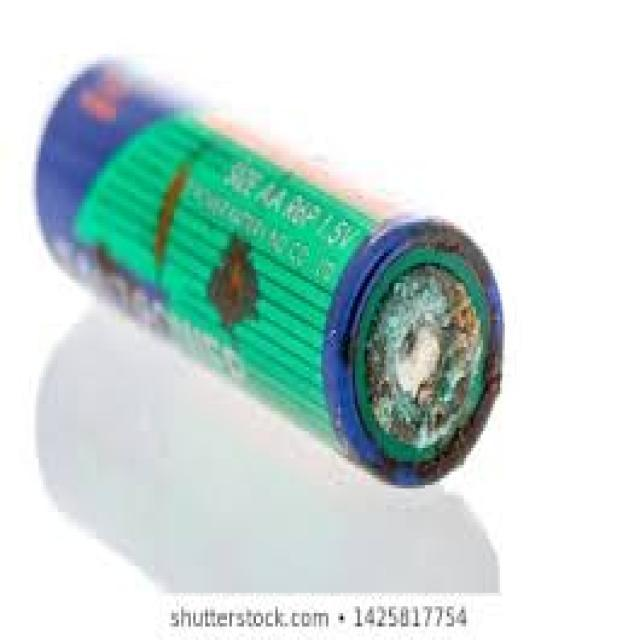Battery: (28, 52, 562, 513)
